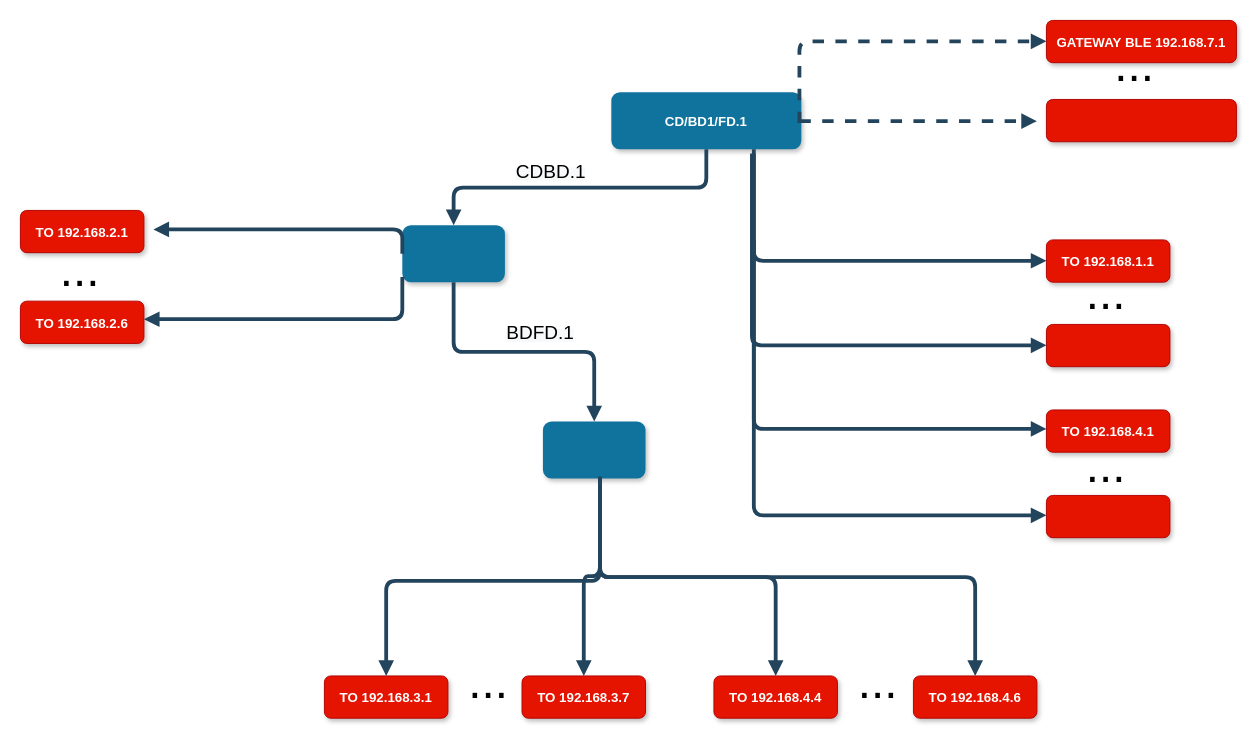
The diagram is 1259 pixels wide and 742 high, and some of its shapes have lost their labels. The centre of each missing label's shape, as x and y in pixels:
BD2/FD.2: point 454,254
FD.3: point 595,451
GATEWAY BLE 192.168.7.44: point 1142,121
TO 192.168.1.15: point 1109,346
TO 192.168.4.3: point 1109,517
